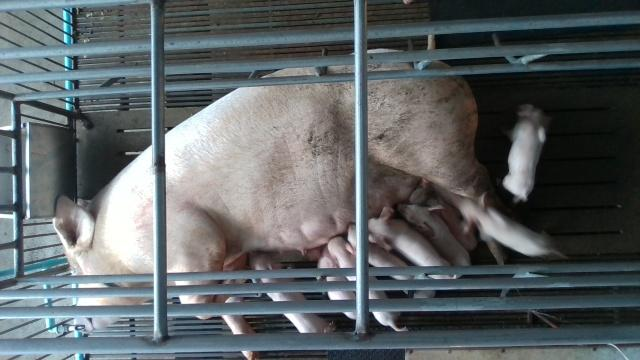piglet: (329, 237, 408, 332), (249, 250, 335, 333), (368, 206, 455, 279), (455, 194, 554, 256), (348, 225, 414, 294), (503, 104, 545, 203), (316, 249, 357, 320)
sow-sleep-lactate: (55, 48, 501, 329)
